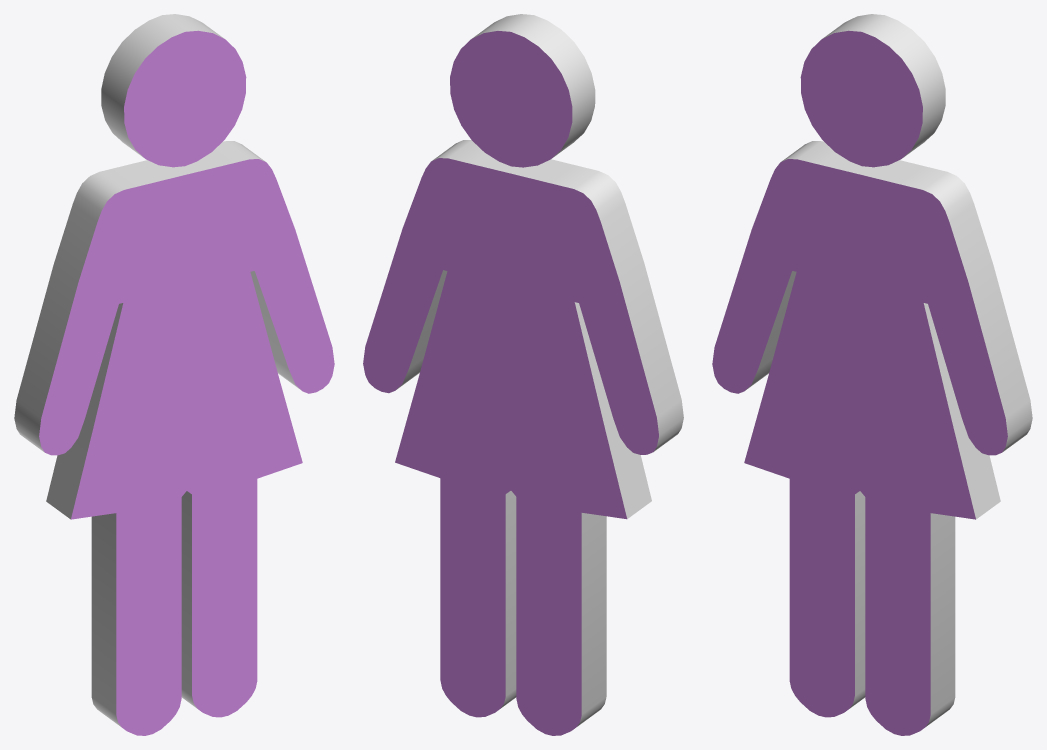
Rendered from Female Dummy B.fbx.
3 renders of one model, left to right at view 1: azimuth 30°, elevation 25°; view 2: azimuth 150°, elevation 25°; view 3: azimuth 330°, elevation 25°, orthographic.
Parts seen in each view (by area): view 1: Female Dummy B; view 2: Female Dummy B; view 3: Female Dummy B.
Part boxes in pixels (x1=…): Female Dummy B: x1=14, y1=14, x2=334, y2=735; Female Dummy B: x1=363, y1=14, x2=683, y2=735; Female Dummy B: x1=712, y1=14, x2=1032, y2=735.
Bounding box in the file's own units: 102 × 228 × 14.79.
